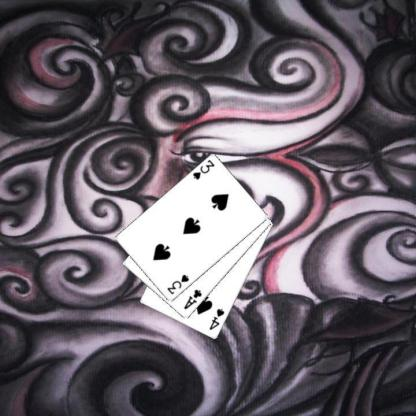3S: (190, 157, 216, 182), (165, 272, 190, 296)
4S: (207, 306, 226, 331)
AC: (181, 287, 203, 311)
